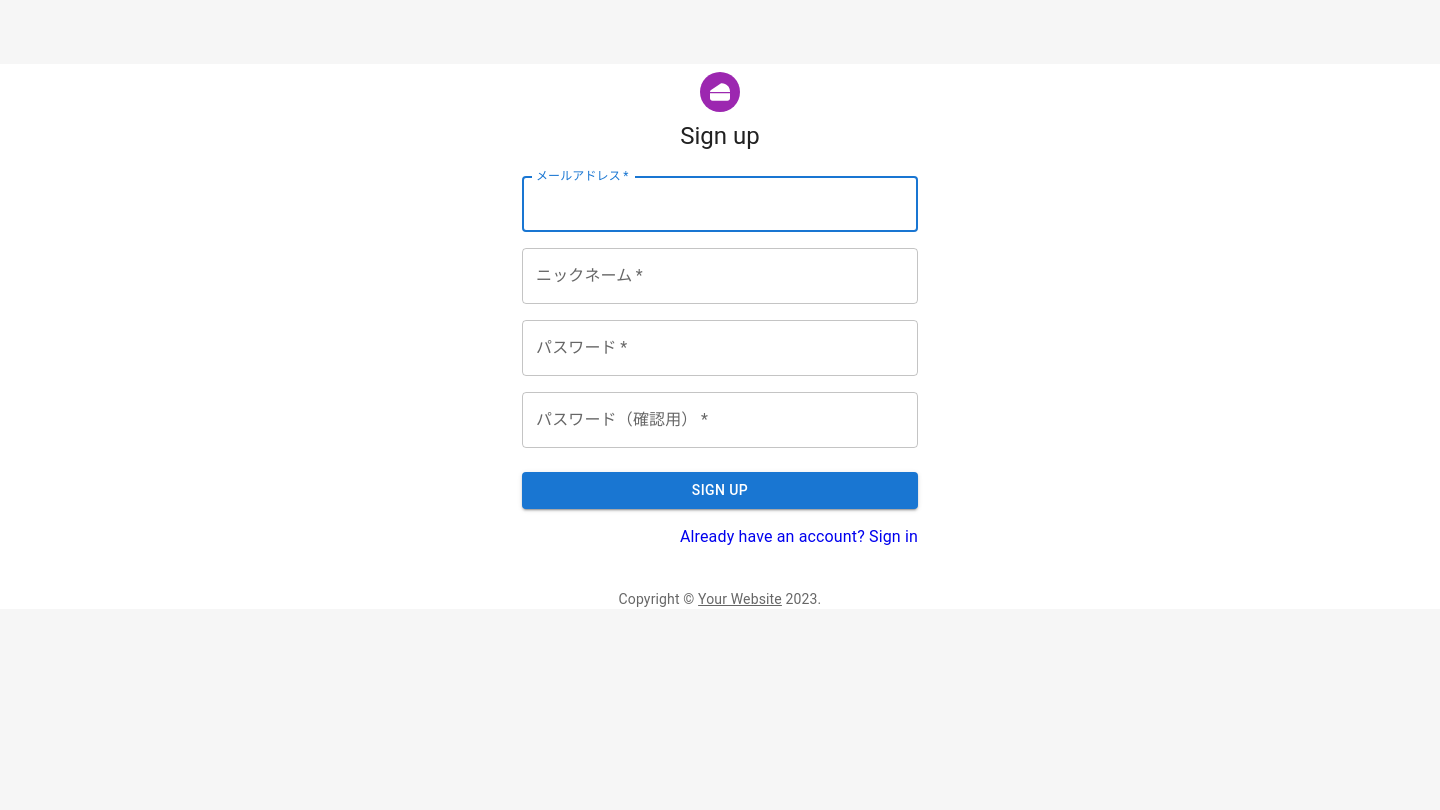
Scenario: サインアップ画面 › パスワード入力 › 桁数チェック - 8桁未満の場合、エラー
Type "a123" into the password field labelled "パスワード *" at (720, 348), box [522,320,918,376]
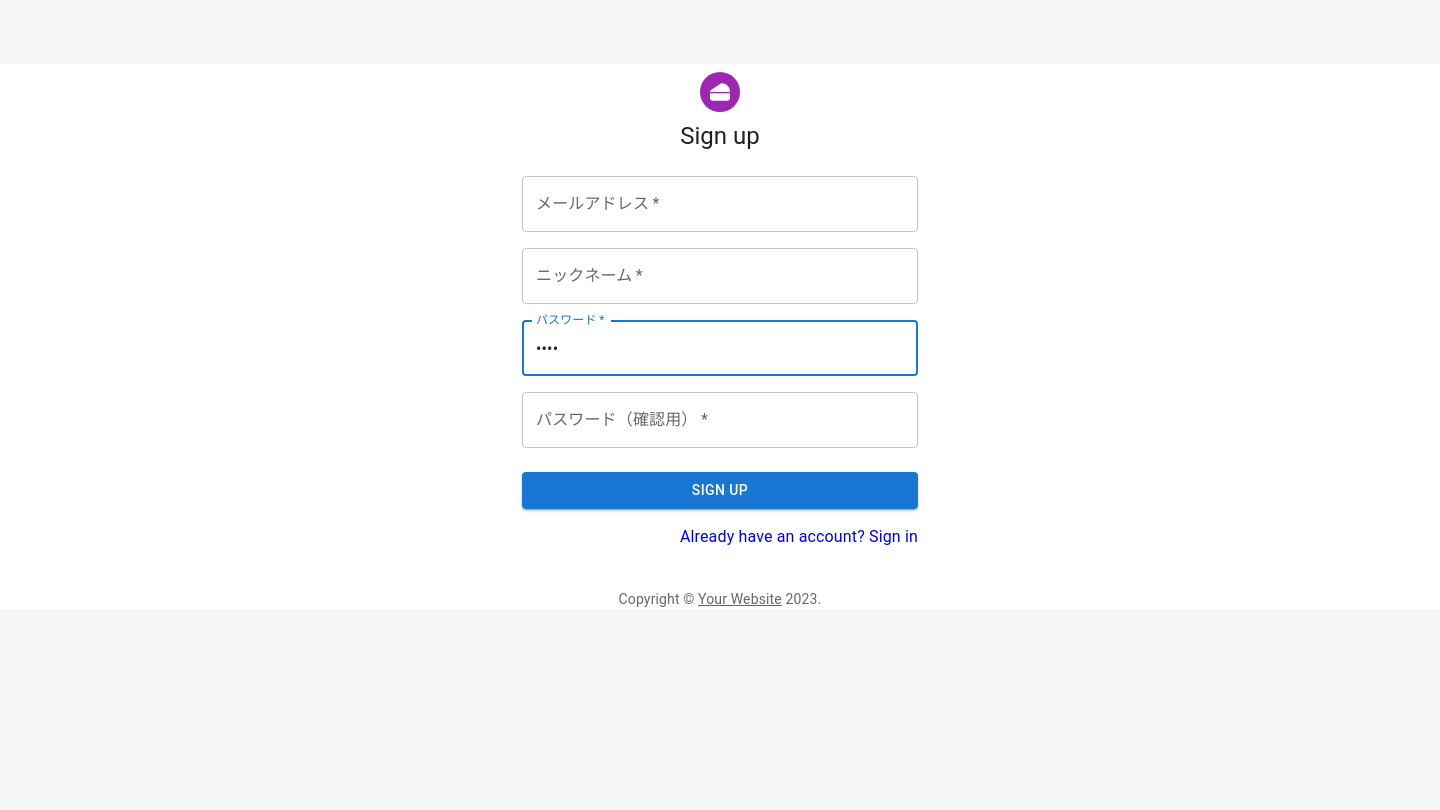
Click the button "Sign Up" at (720, 490), box [522,472,918,508]
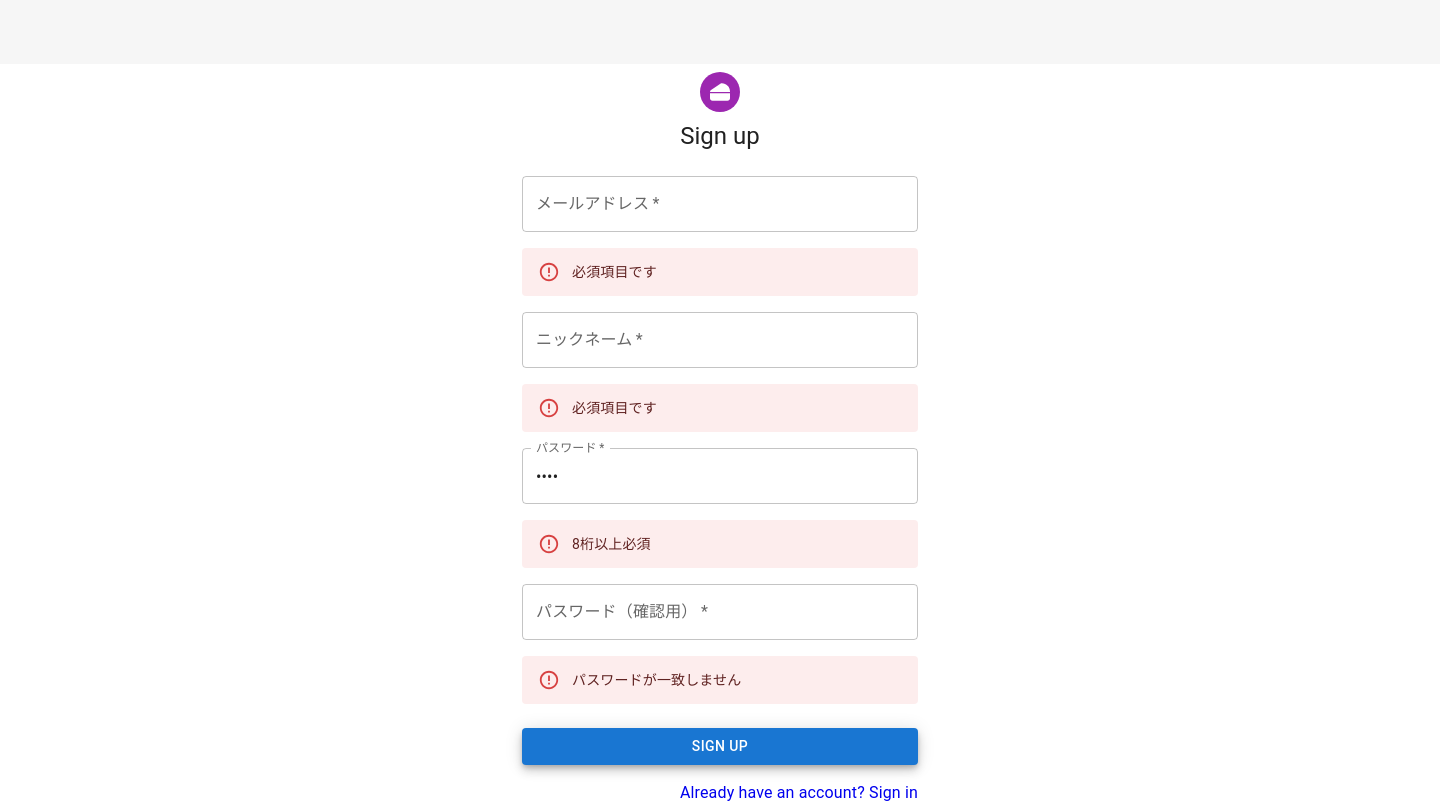
Expected: the text "8桁以上必須" is shown, [572,536,651,552]
